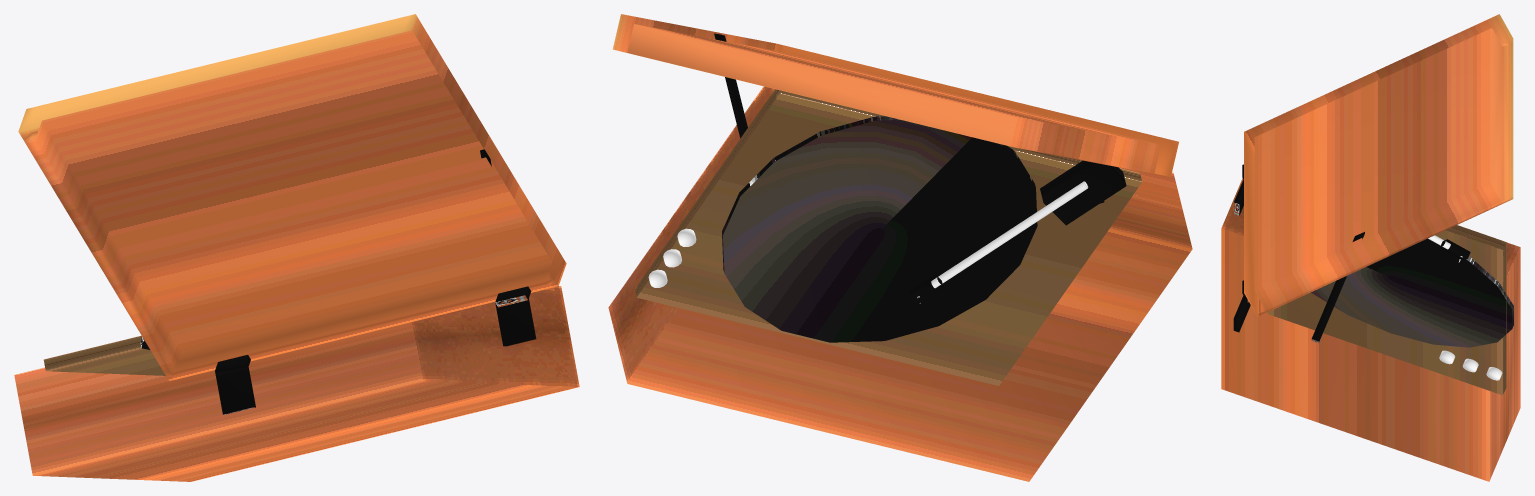
Rendered from ps2_save-icons_forsymphony.glb.
The picture shows the model from 3 angles, left to right: view 1: azimuth 30°, elevation 25°; view 2: azimuth 150°, elevation 25°; view 3: azimuth 270°, elevation 25°; orthographic projection. The views are drawn at different scales.
Parts seen in each view (by area): view 1: sym.ico; view 2: sym.ico; view 3: sym.ico.
Part boxes in pixels (x1,y1,x2,y2): sym.ico: (14,14,579,481); sym.ico: (608,14,1192,481); sym.ico: (1221,14,1520,481).
Size of the model in its own units: 4.59 by 4.08 by 3.6.
Materials: 1 (1 with a texture image).
